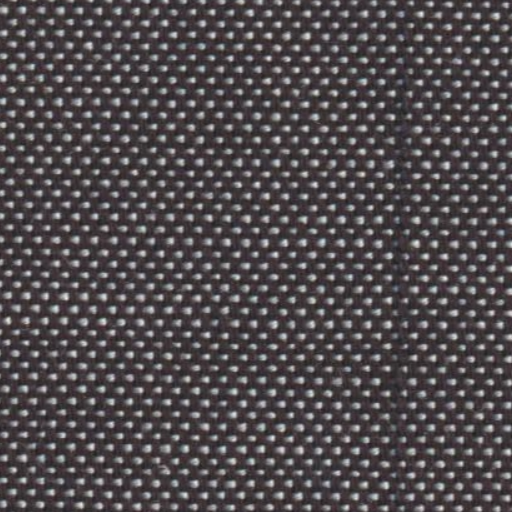TuoSha: (368, 14, 460, 498)
